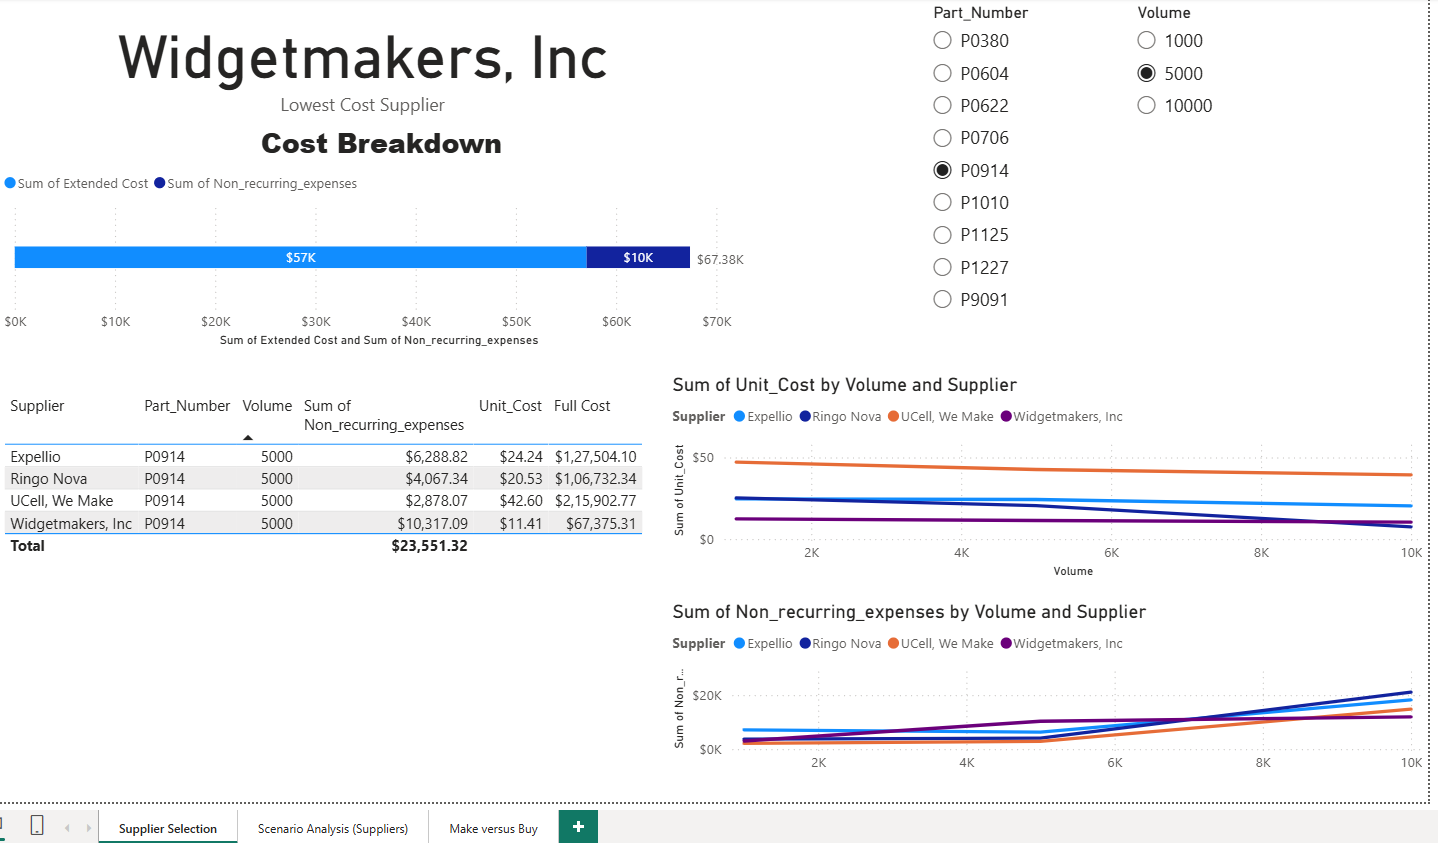

What the dashboard file says about the page in this screenshot:
{"tool":"powerbi","page":{"name":"Supplier Selection","canvas":[1280,720],"ordinal":0},"visuals":[{"type":"tableEx","fields":{"Values":["Quotes.Supplier","Quotes.Part_Number","Quotes.Volume","Sum(Quotes.Non_recurring_expenses)","Quotes.Unit_Cost","Quotes.Full Cost"]},"box":[0,350,599.3,340.4],"z":0},{"type":"slicer","fields":{"Values":["Quotes.Part_Number"]},"box":[824.9,0,182,308.6],"z":1000},{"type":"lineChart","fields":{"Category":["Quotes.Volume"],"Series":["Quotes.Supplier"],"Y":["Sum(Quotes.Unit_Cost)"]},"box":[598.8,335.6,681.2,187.7],"z":2000},{"type":"lineChart","fields":{"Category":["Quotes.Volume"],"Series":["Quotes.Supplier"],"Y":["Sum(Quotes.Non_recurring_expenses)"]},"box":[598.8,539,681.2,163.6],"z":3000},{"type":"slicer","fields":{"Values":["Quotes.Volume"]},"box":[1007.4,0,224.2,207.4],"z":4000},{"type":"card","fields":{"Values":["Min(Quotes.Supplier)"]},"box":[44.3,0,563.3,112.7],"z":5000},{"type":"barChart","title":"Cost Breakdown","fields":{"Y":["Sum(Quotes.Extended Cost)","Sum(Quotes.Non_recurring_expenses)"]},"box":[0,112.7,686.7,203.7],"z":6000}]}

Visuals, with their boxes on the page's 1280x720 design canvas (x1, y1, x2, y2). These are canvas units, not pixel positions in the 1438x843 screenshot, which may show the page scaled, cropped or inside an application window:
tableEx - Quotes.Supplier x Quotes.Part_Number: l=0, t=350, r=599, b=690
slicer - Quotes.Part_Number: l=825, t=0, r=1007, b=309
lineChart - Quotes.Volume x Quotes.Supplier: l=599, t=336, r=1280, b=523
lineChart - Quotes.Volume x Quotes.Supplier: l=599, t=539, r=1280, b=703
slicer - Quotes.Volume: l=1007, t=0, r=1232, b=207
card - Min(Quotes.Supplier): l=44, t=0, r=608, b=113
"Cost Breakdown" barChart: l=0, t=113, r=687, b=316
